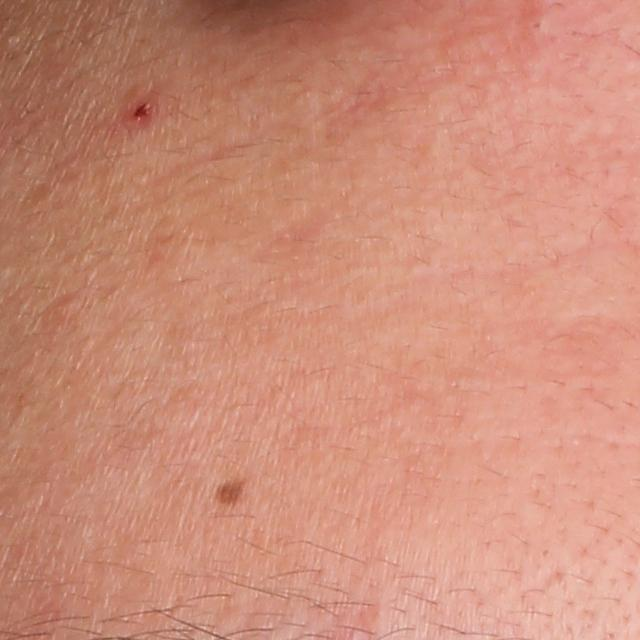comedo: (517, 9, 558, 44)
nevus: (207, 475, 250, 513)
